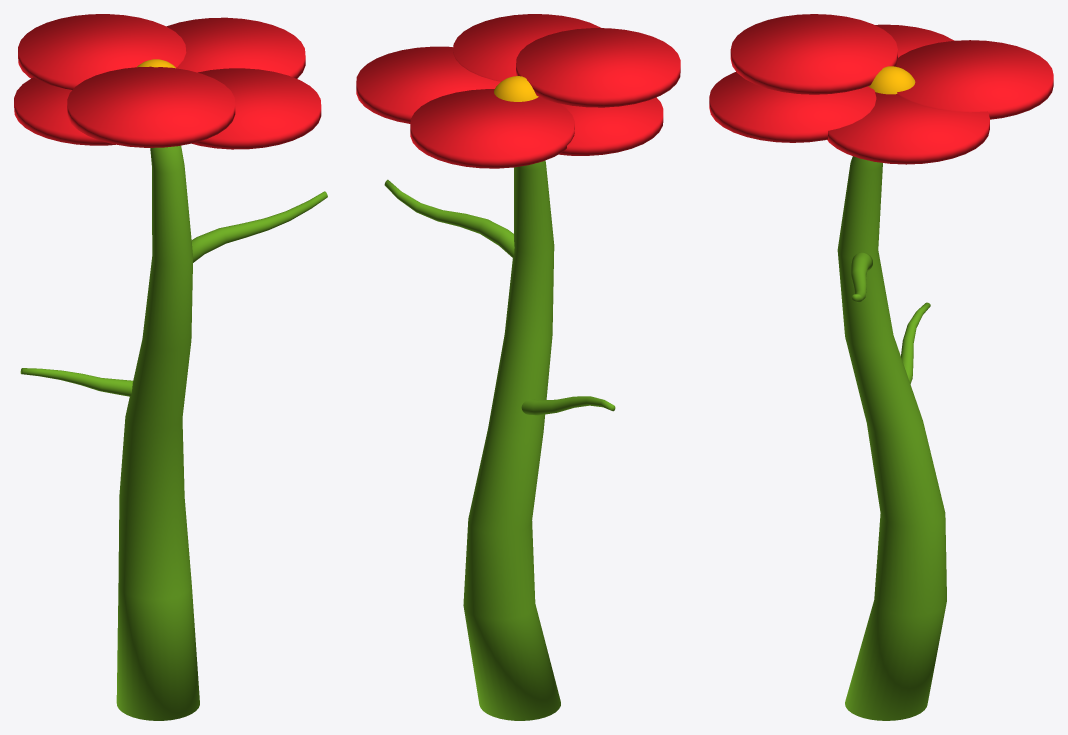
Rendered from flower.fbx.
The picture shows the model from 3 angles, left to right: view 1: azimuth 30°, elevation 25°; view 2: azimuth 150°, elevation 25°; view 3: azimuth 270°, elevation 25°; orthographic projection. The views are drawn at different scales.
Visible parts, largest first — view 1: flower-leg, flower-petal.003, flower-petal.001, flower-petal.002, flower-petal, flower-petal.004, flower-leaf.001, flower-leaf; view 2: flower-leg, flower-petal.003, flower-petal.001, flower-petal, flower-petal.002, flower-petal.004, flower-leaf.001, flower-leaf, flower-middle; view 3: flower-leg, flower-petal.003, flower-petal.001, flower-petal, flower-petal.002, flower-petal.004, flower-middle, flower-leaf, flower-leaf.001.
Part boxes in pixels (box(x1,y1,x2,y2)): flower-leg: box(116, 145, 199, 720); flower-petal.003: box(67, 66, 235, 147); flower-petal.001: box(18, 14, 186, 89); flower-petal.002: box(192, 68, 321, 149); flower-petal: box(166, 17, 305, 78); flower-petal.004: box(14, 77, 115, 145); flower-leaf.001: box(191, 191, 327, 262); flower-leaf: box(20, 368, 132, 396); flower-leg: box(463, 160, 560, 720); flower-petal.003: box(516, 28, 680, 107); flower-petal.001: box(410, 89, 574, 168); flower-petal: box(356, 46, 500, 123); flower-petal.002: box(453, 14, 600, 81); flower-petal.004: box(559, 97, 663, 155); flower-leaf.001: box(384, 179, 514, 257); flower-leaf: box(521, 396, 615, 415); flower-middle: box(494, 76, 538, 101); flower-leg: box(837, 156, 946, 720); flower-petal.003: box(730, 14, 897, 94); flower-petal.001: box(896, 40, 1053, 119); flower-petal: box(827, 92, 989, 164); flower-petal.002: box(709, 72, 876, 142); flower-petal.004: box(875, 24, 953, 57); flower-middle: box(868, 66, 915, 94); flower-leaf: box(901, 302, 930, 383); flower-leaf.001: box(851, 252, 872, 302).
Size of the model in its own units: 71.18 by 152 by 74.63.
